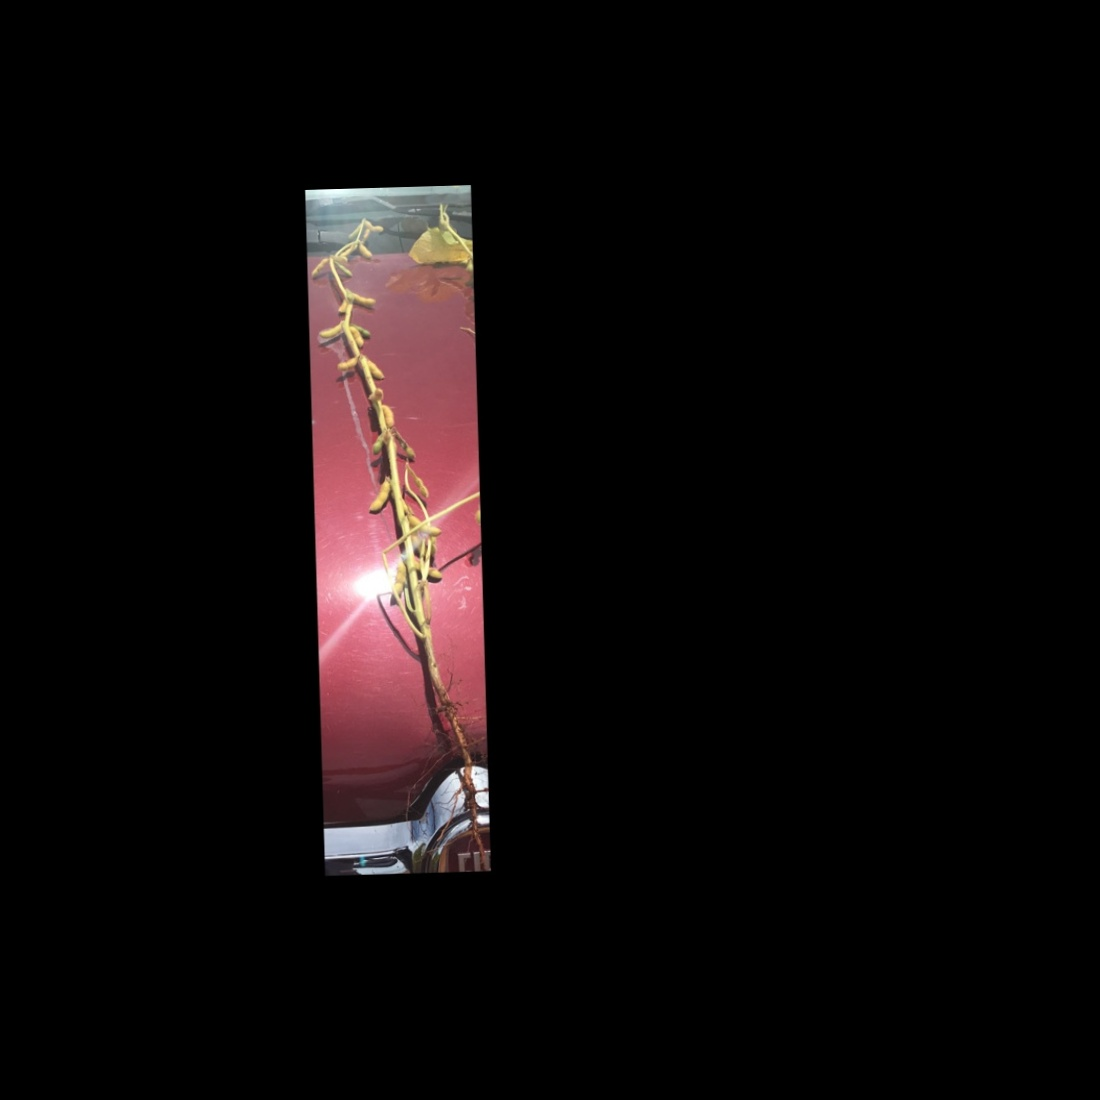pod: (365, 474, 392, 516), (409, 513, 443, 539), (407, 465, 433, 499), (390, 560, 407, 601), (308, 252, 330, 281), (367, 355, 388, 382), (317, 320, 343, 340), (332, 355, 359, 373), (351, 290, 378, 305), (362, 218, 387, 234), (356, 240, 374, 261), (369, 433, 385, 456), (335, 261, 355, 280)
soy: (312, 207, 488, 818)
